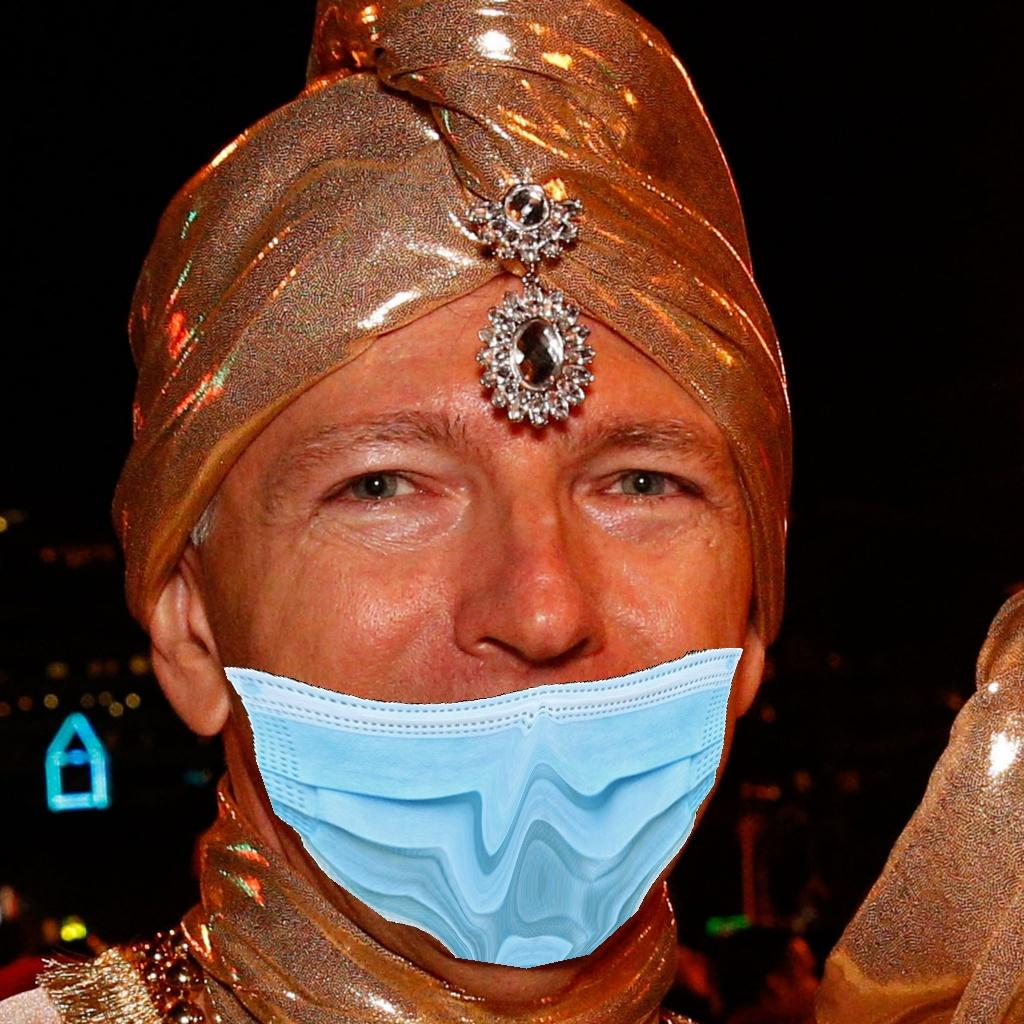Máscara Incorreta: (153, 367, 770, 931)
